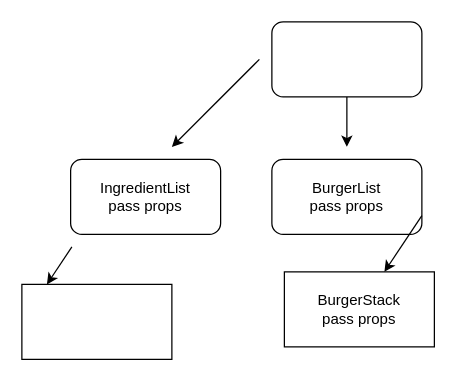
Some shapes in this 456 by 381 pixel diagram are drawn without their labels. Each missing label, with the box of its shape:
App.js array of ingredients 2 divs Global Functions: (271, 21, 422, 97)
Ingredients: (21, 283, 172, 359)
